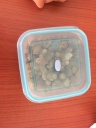Majezik: (54, 59, 62, 72)
